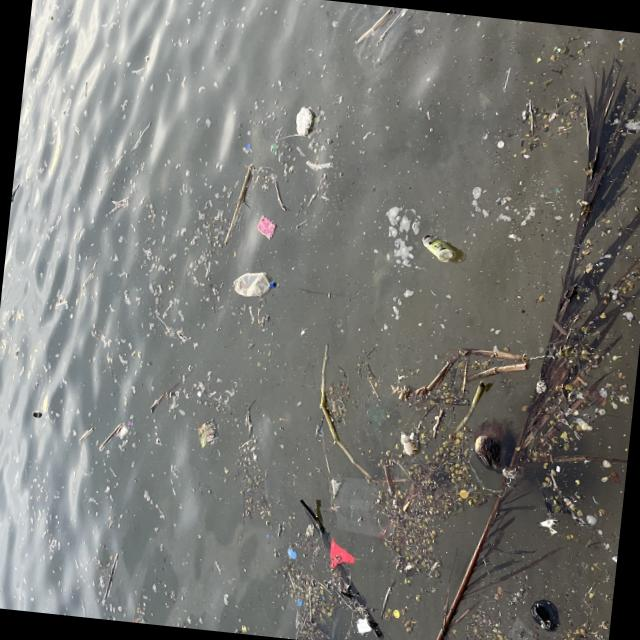foam: (292, 106, 313, 136), (352, 614, 372, 632)
plastic: (232, 270, 276, 296), (420, 234, 458, 262), (395, 431, 419, 454)
plastic bottle: (323, 472, 398, 537), (483, 614, 573, 640), (195, 417, 218, 448)
unknow: (323, 539, 356, 570), (255, 212, 275, 238)
